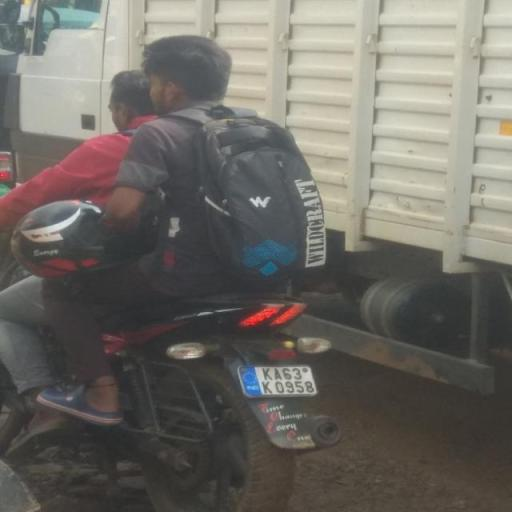bike: (4, 33, 350, 512)
numberplate: (240, 362, 320, 400)
withouthelmet: (151, 38, 230, 104), (112, 72, 153, 126)
